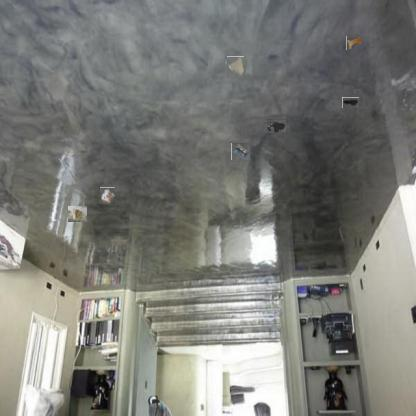dirty: (226, 57, 245, 76), (232, 142, 250, 161), (68, 205, 86, 223), (99, 187, 115, 204), (342, 97, 359, 108)
liquid: (266, 119, 286, 133), (346, 36, 361, 50)
